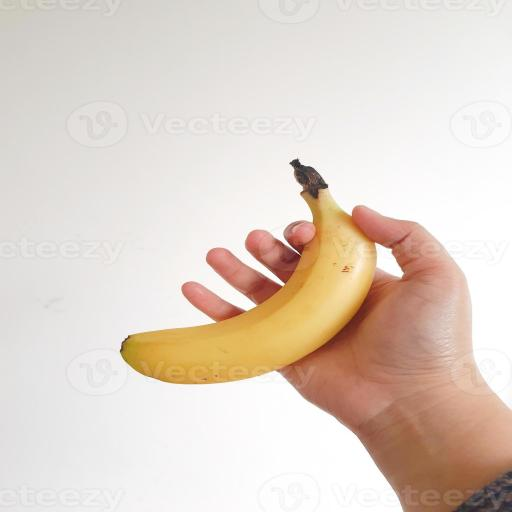banana: (121, 160, 375, 383)
